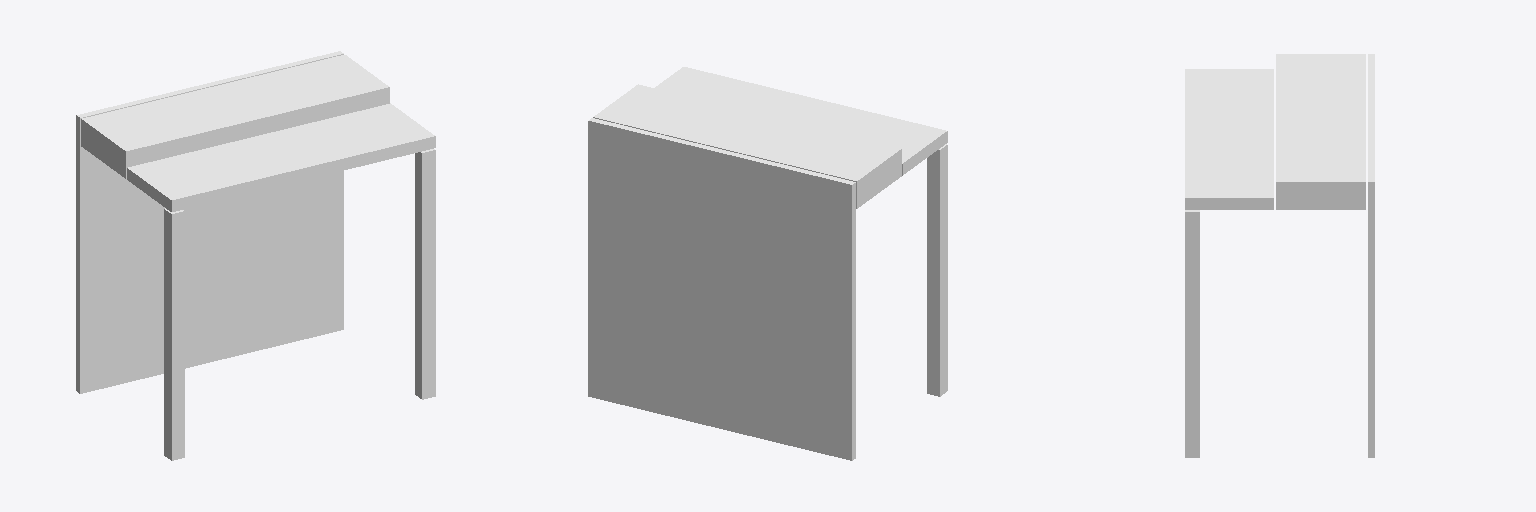
The model's file is entrance1-1-lod2.obj.
3 views of the same model, side by side, from view 1: azimuth 30°, elevation 25°; view 2: azimuth 150°, elevation 25°; view 3: azimuth 270°, elevation 25° (orthographic).
Visible parts, largest first — view 1: lod2; view 2: lod2; view 3: lod2.
Part boxes in pixels (x1,y1,x2,y2): lod2: (76, 51, 435, 460); lod2: (588, 67, 947, 460); lod2: (1185, 54, 1374, 457).
Size of the model in its own units: 16 by 16 by 10.